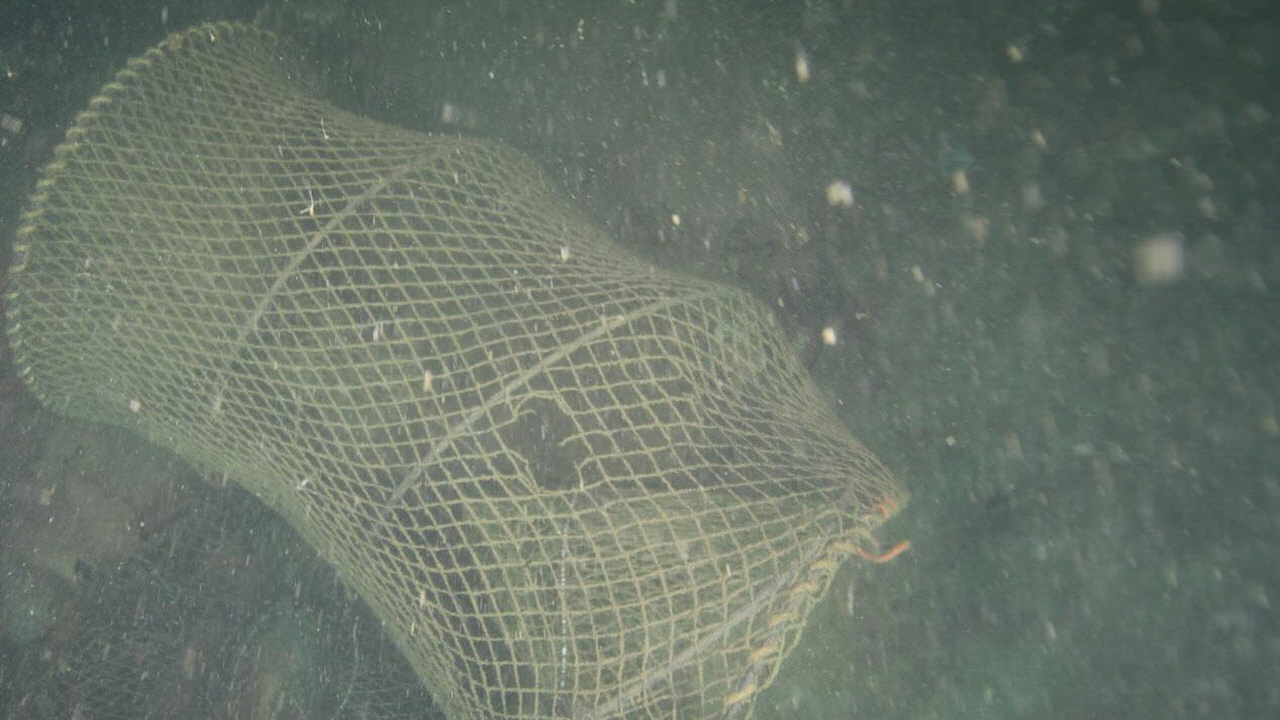spring fish trap: (4, 21, 912, 720)
